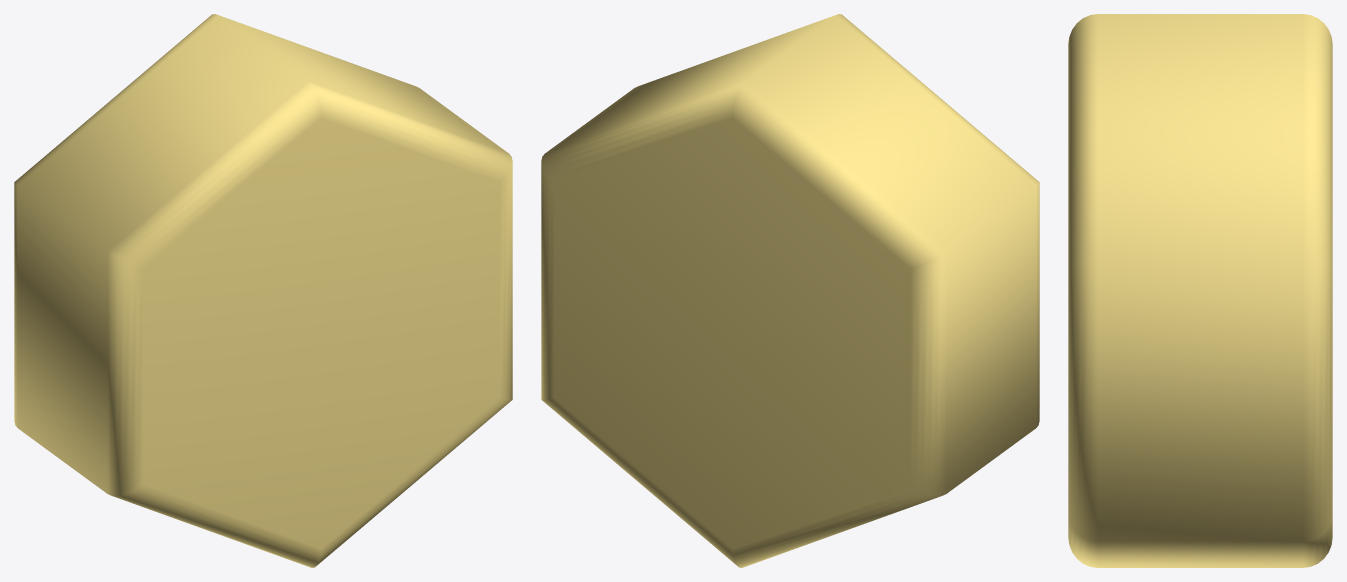
Rendered from SandTileBlank.fbx.
The picture shows the model from 3 angles, left to right: view 1: azimuth 30°, elevation 25°; view 2: azimuth 150°, elevation 25°; view 3: azimuth 270°, elevation 25°; orthographic projection. The views are drawn at different scales.
Parts seen in each view (by area): view 1: Circle.009; view 2: Circle.009; view 3: Circle.009.
Part boxes in pixels (<box>): Circle.009: <box>14,14,512,567</box>; Circle.009: <box>541,14,1039,567</box>; Circle.009: <box>1068,14,1332,567</box>.
Size of the model in its own units: 200 by 231 by 100.
